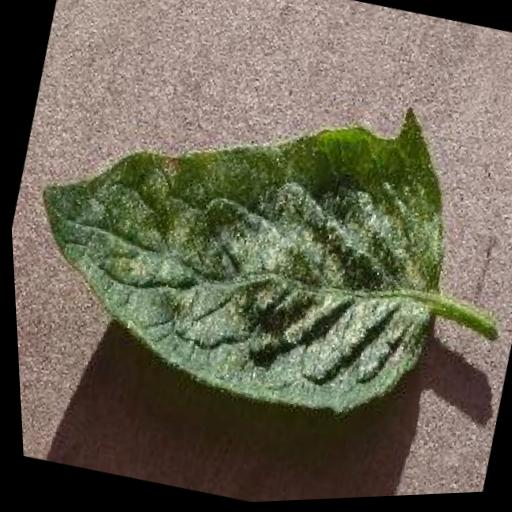Spider Mites: (2, 27, 481, 443)
